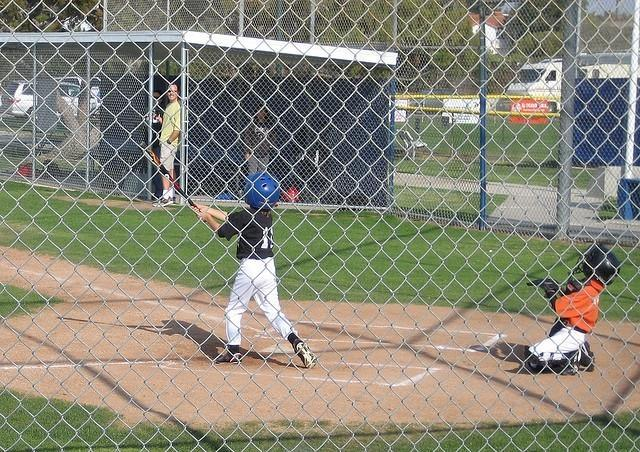truck: (506, 58, 564, 97)
